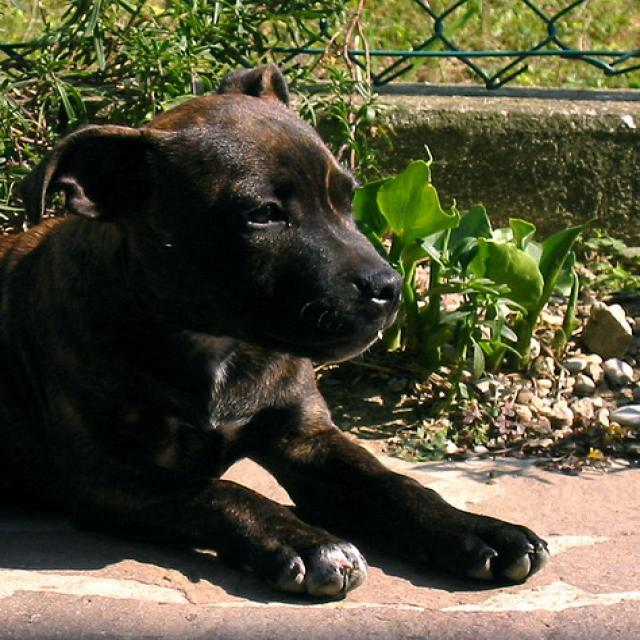dog: (18, 64, 401, 362)
